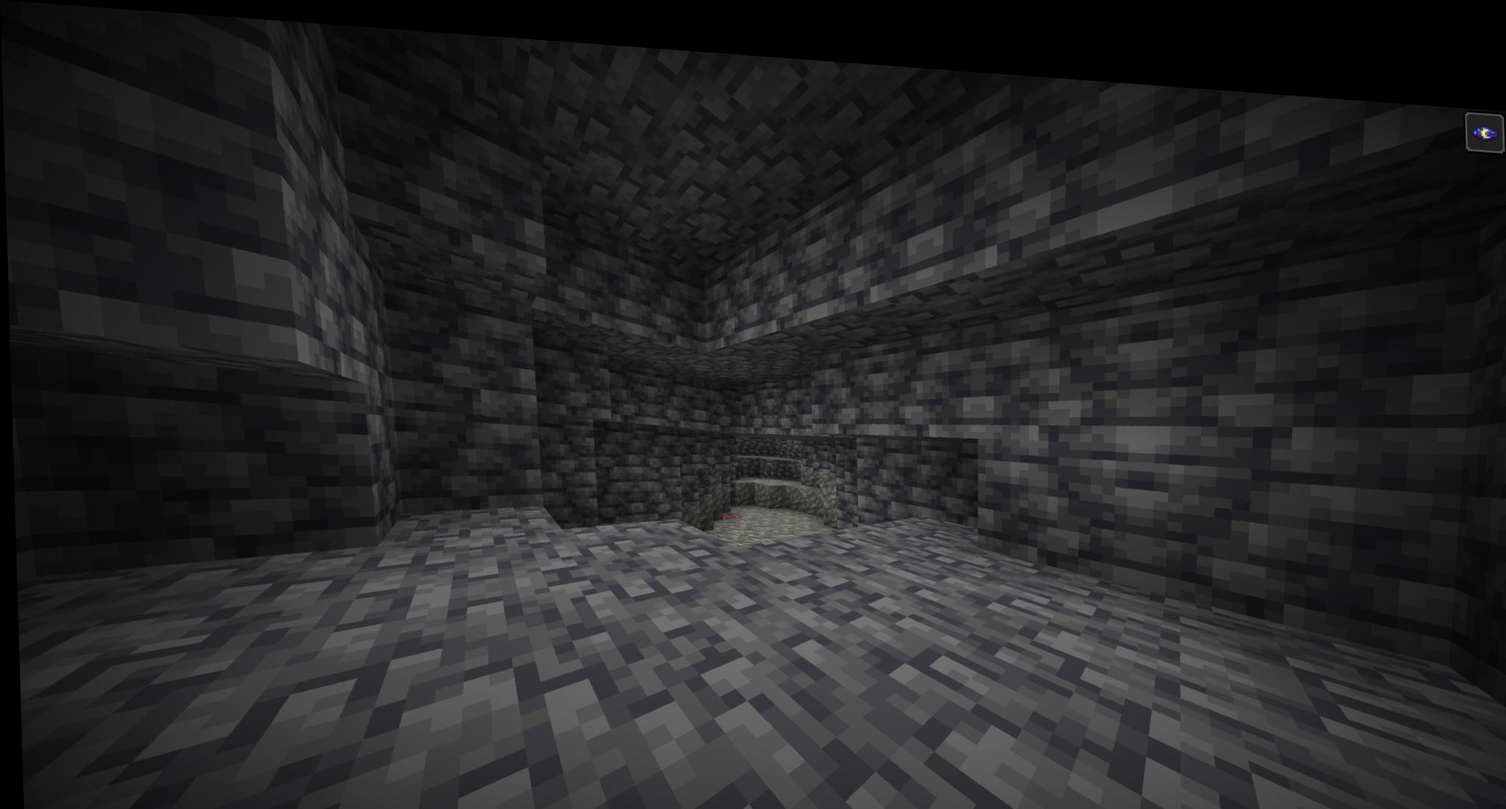redstone ore: (712, 493, 742, 517)
